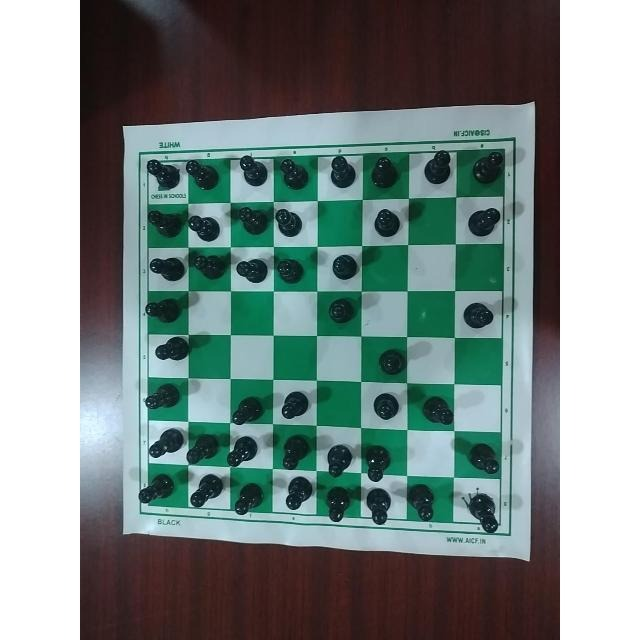black-pawn: (465, 490, 504, 534), (462, 201, 502, 239), (408, 477, 440, 524), (226, 433, 264, 471), (146, 205, 185, 242), (184, 154, 219, 194), (144, 153, 181, 190), (228, 391, 265, 427), (470, 148, 505, 186), (187, 427, 221, 466), (231, 479, 265, 517), (147, 252, 186, 285), (323, 486, 355, 526), (365, 485, 395, 527), (276, 154, 309, 192), (281, 475, 314, 513), (137, 471, 175, 504), (234, 206, 273, 238), (150, 335, 189, 367), (278, 431, 310, 470), (141, 294, 184, 323), (364, 438, 392, 482), (233, 154, 268, 189), (467, 438, 502, 473), (146, 426, 182, 460), (369, 153, 401, 191), (459, 301, 499, 331), (421, 395, 455, 430), (189, 473, 224, 507), (375, 342, 411, 375), (146, 379, 182, 412), (187, 209, 221, 243), (327, 250, 360, 285), (421, 149, 453, 185), (324, 156, 357, 190), (271, 206, 307, 237), (194, 252, 228, 284), (367, 388, 401, 420), (324, 443, 355, 477), (276, 256, 308, 288), (278, 388, 310, 420), (234, 255, 268, 285), (322, 295, 353, 327), (373, 207, 403, 238)
